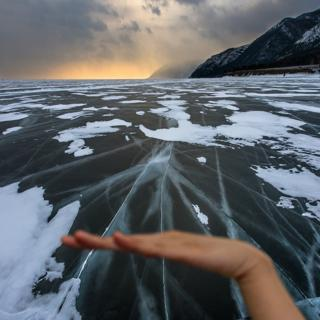WAIT: (58, 220, 259, 281)
